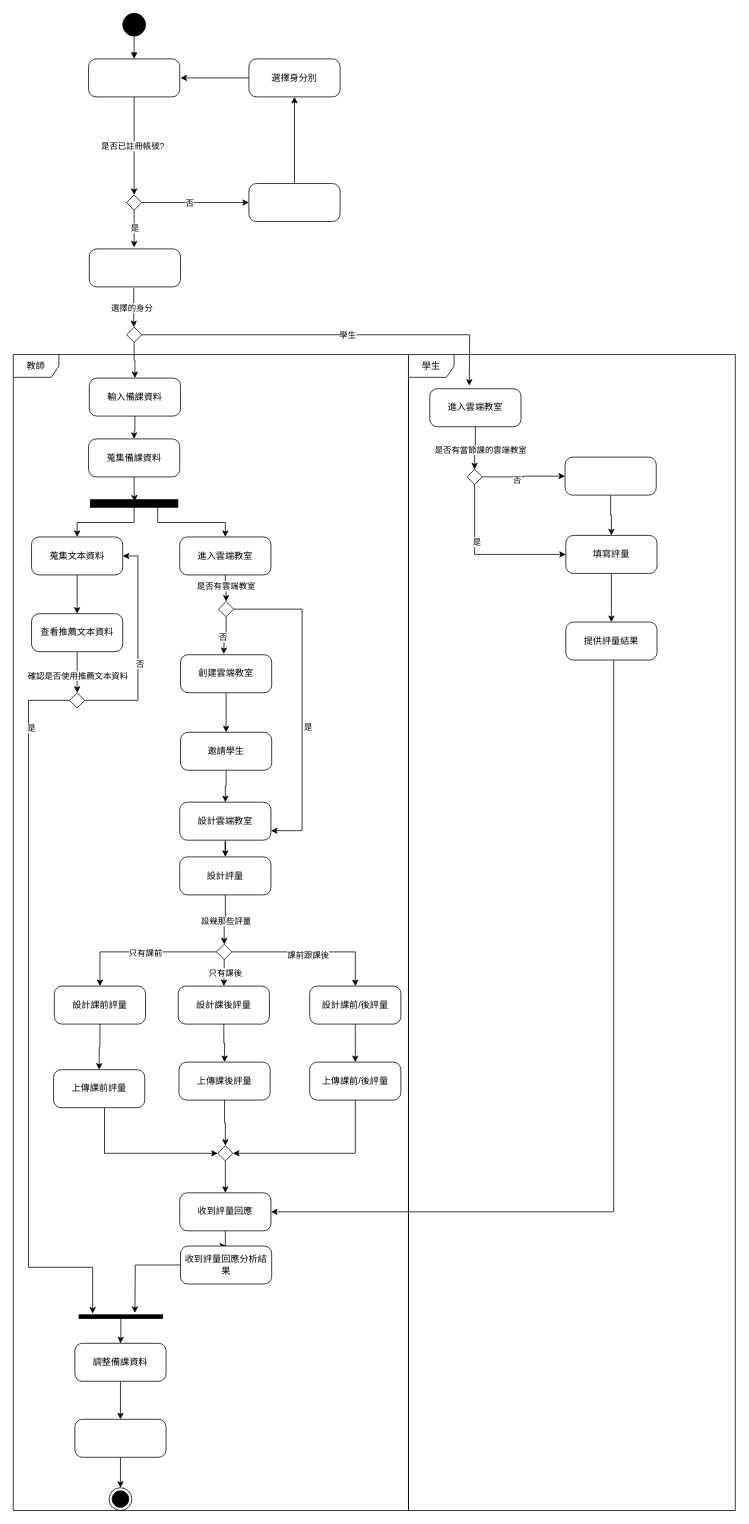
Some shapes in this 749 by 1524 pixel diagram are drawn without their labels. The shapes that lost their labels are listed below. From the top down, each one's centre as x and y in pixels, then its label:
the point at 134,77: 登入
the point at 294,202: 註冊
the point at 134,267: 識別身分
the point at 610,475: 輸入雲端教室代碼
the point at 120,1438: 確認備課資料
